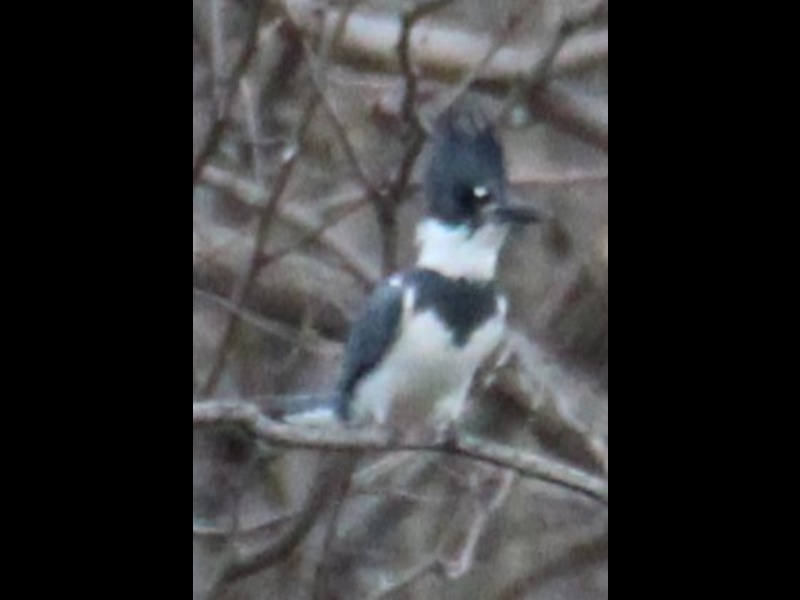kingfisher: (272, 100, 557, 446)
